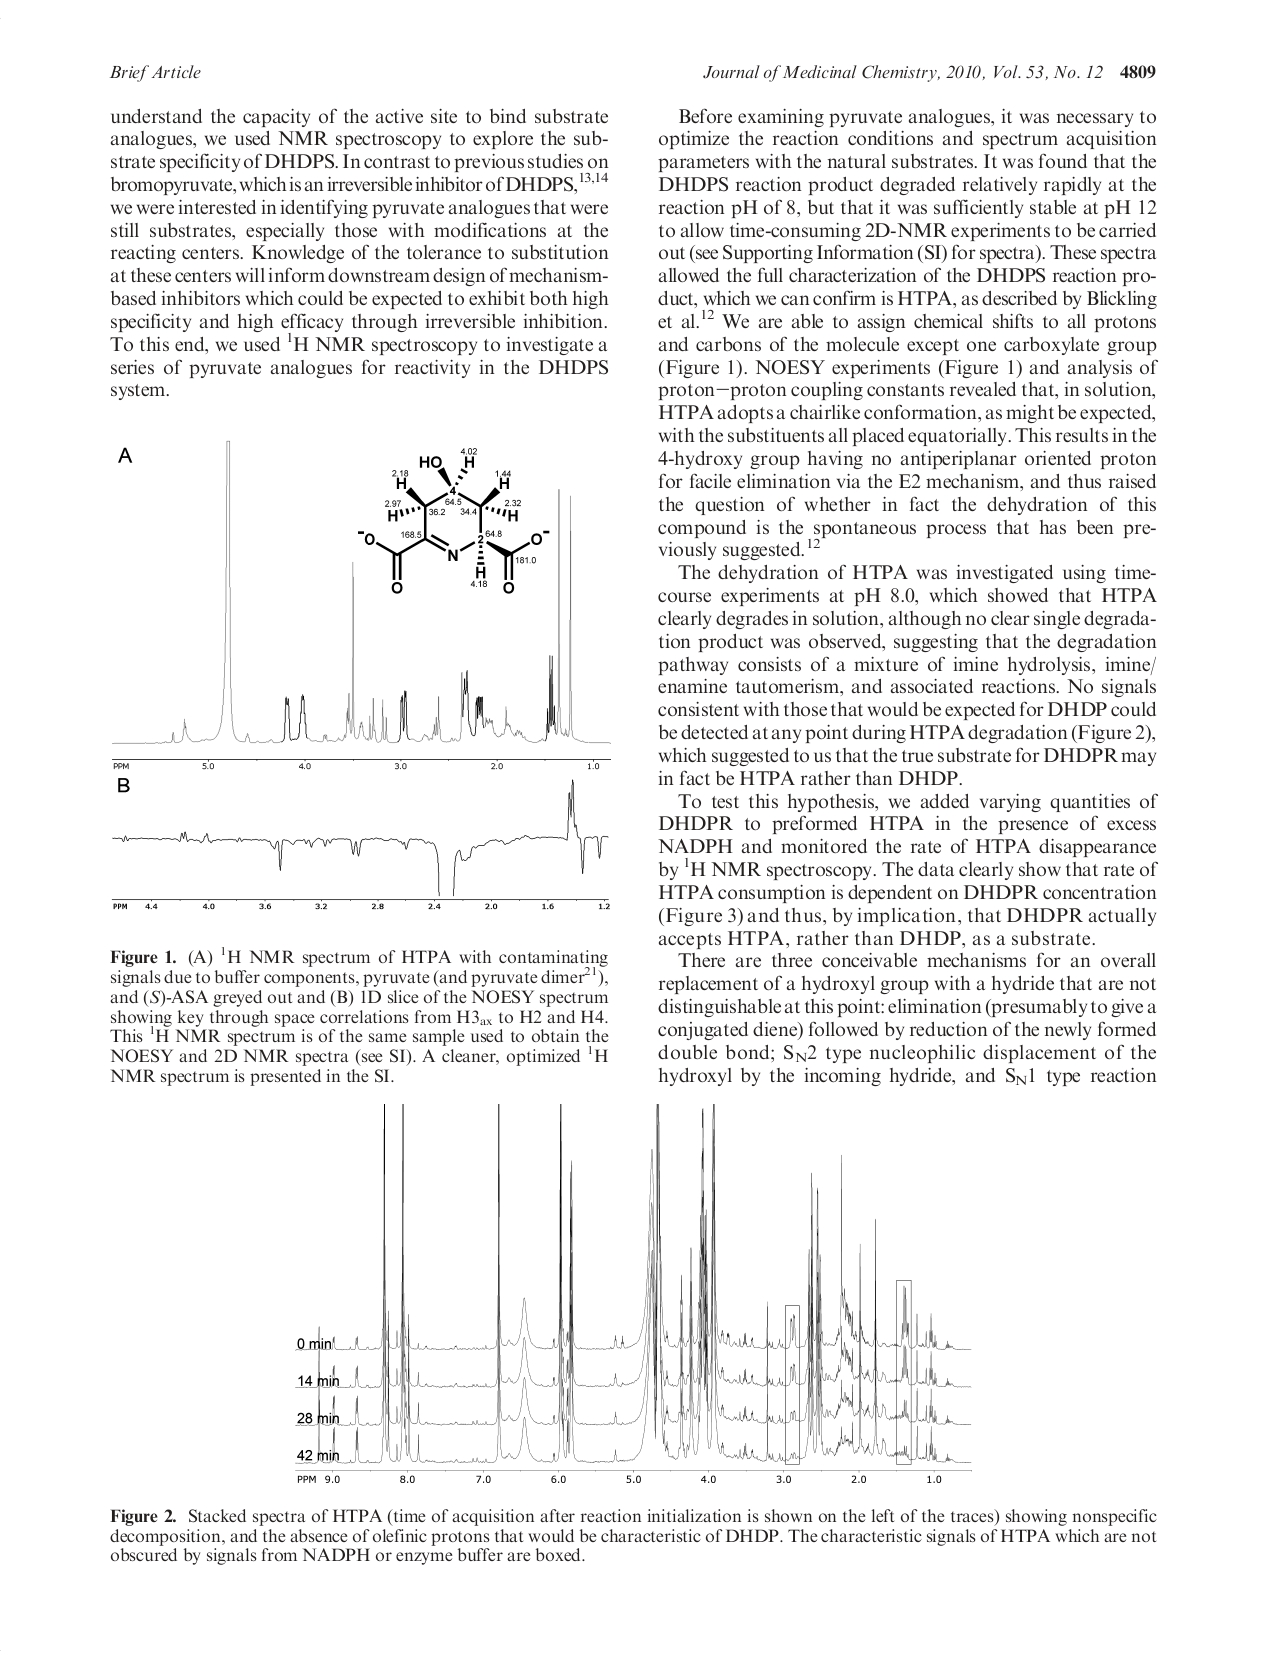exist_molecular: (356, 446, 555, 593)
